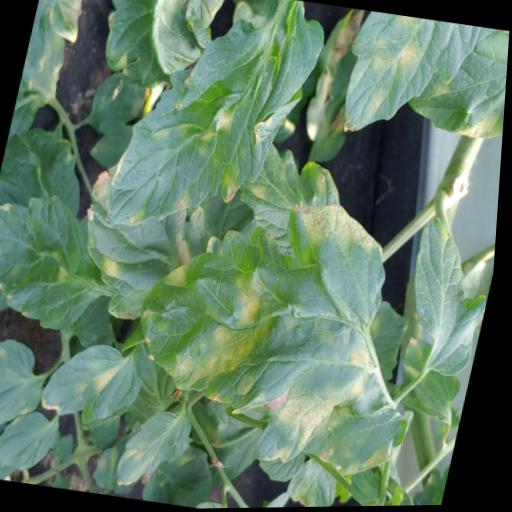Leaf Mold: (114, 175, 430, 479), (103, 0, 330, 255), (67, 166, 228, 330), (331, 7, 481, 152), (0, 182, 119, 335), (395, 211, 501, 381), (227, 139, 353, 274), (400, 18, 511, 153), (94, 0, 222, 101), (40, 335, 154, 428), (117, 402, 204, 495), (0, 329, 56, 432)
